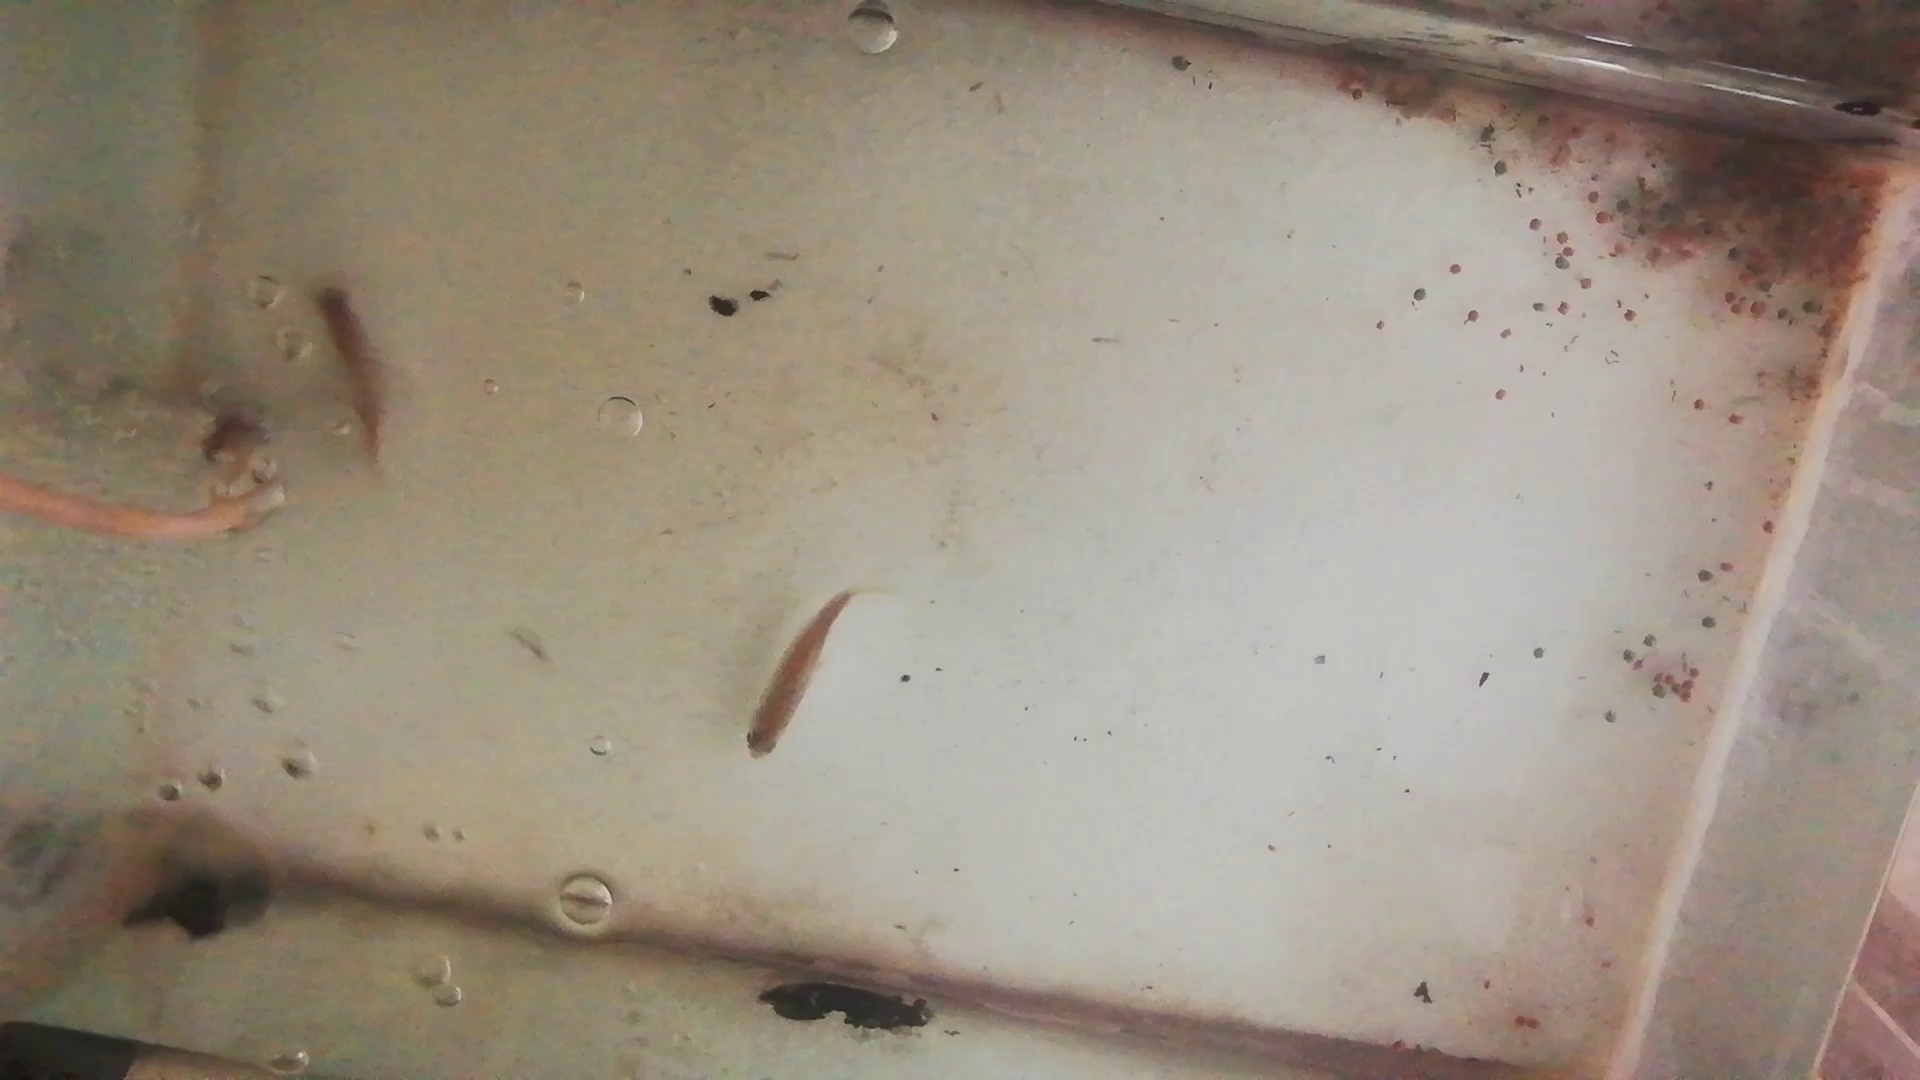fish: (738, 588, 836, 760), (309, 280, 384, 468)
